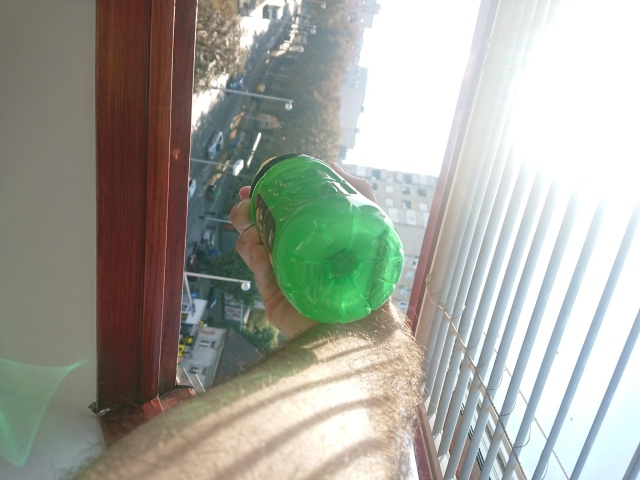Vindi Iso Sport Lemon-Grapefruit 500mL: (247, 150, 408, 328)
